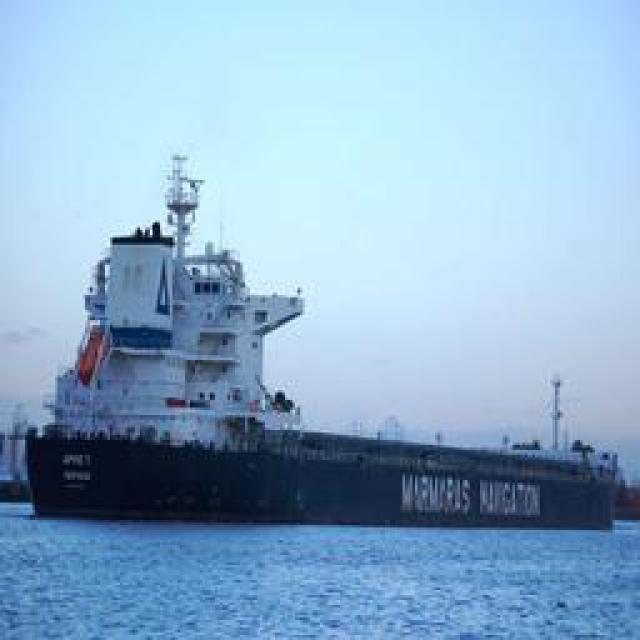Ship: (29, 132, 634, 537)
